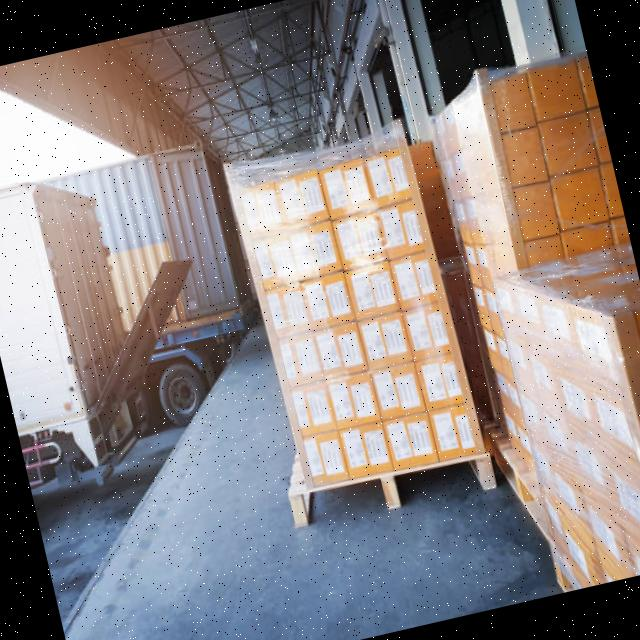Wooden-Pallets: (289, 452, 502, 535), (492, 433, 552, 548)
